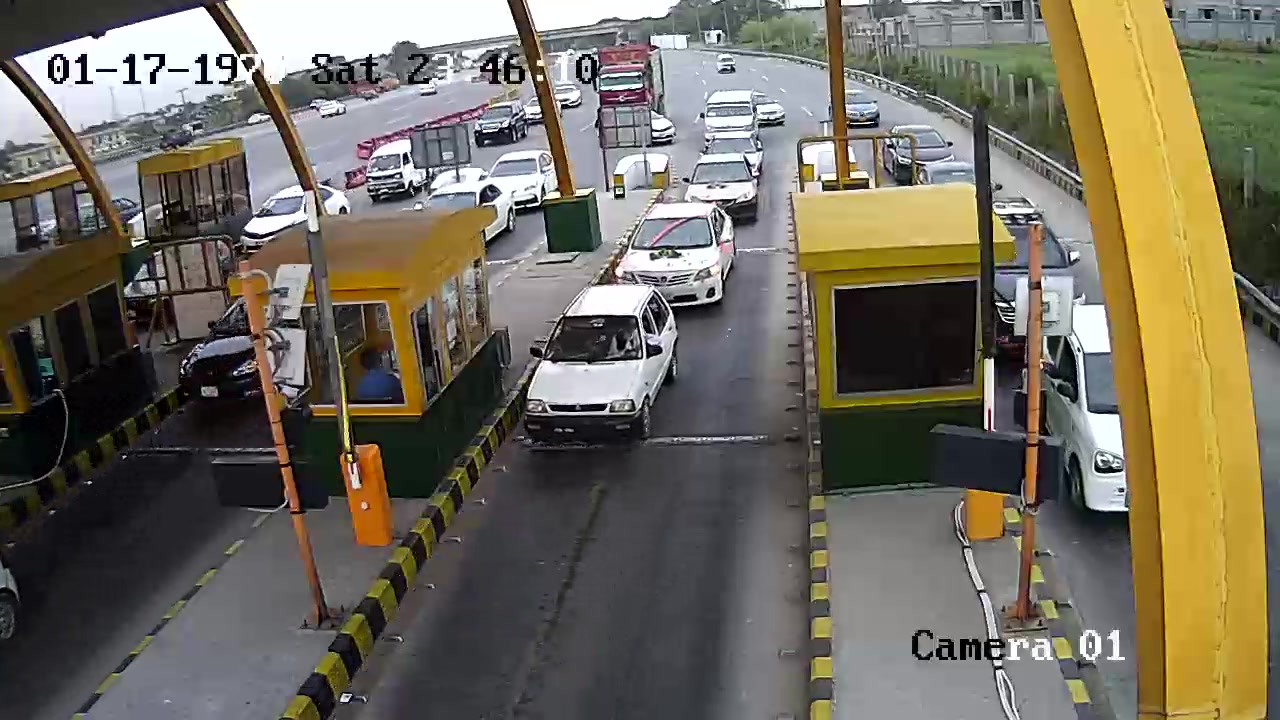F1: (516, 283, 681, 457)
